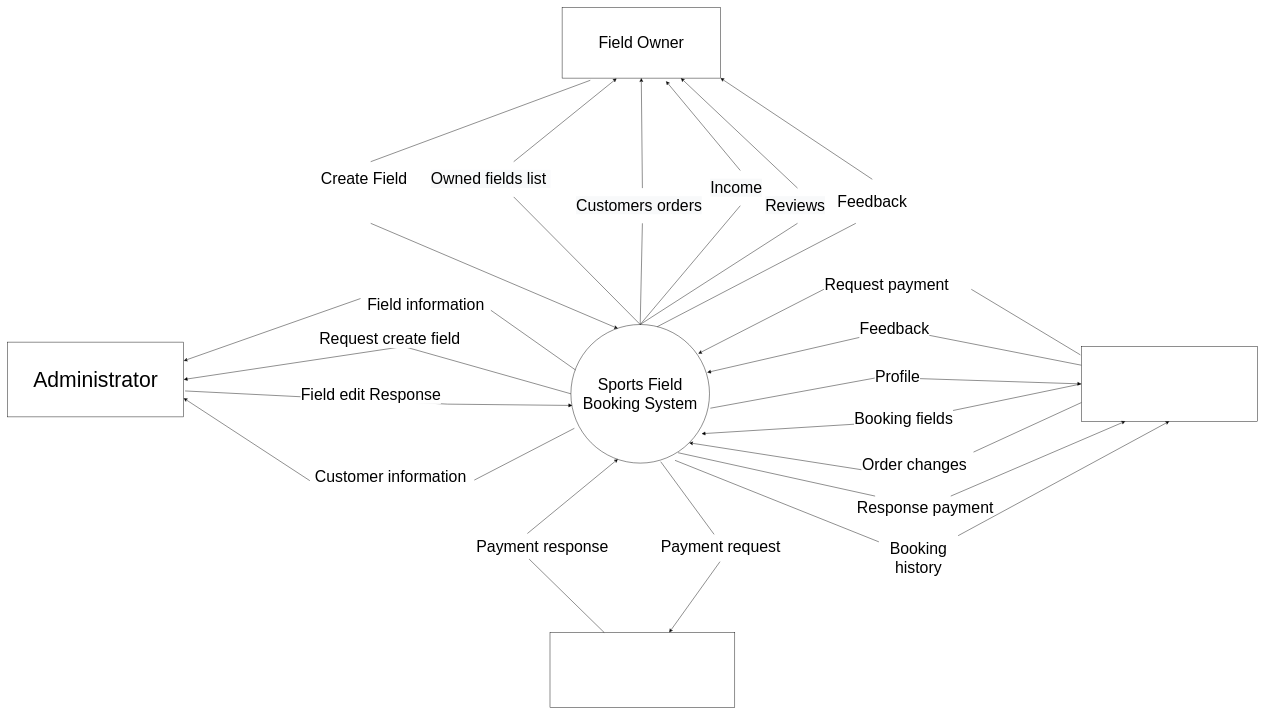
Some shapes in this 1265 by 715 pixel diagram are drawn without their labels. The shapes that lost their labels are listed below. From the top down, each one's box as (x1, y1, x2, y2) in pixels, then its label:
(1081, 346, 1257, 421): Customer
(550, 632, 735, 707): Payroll system
